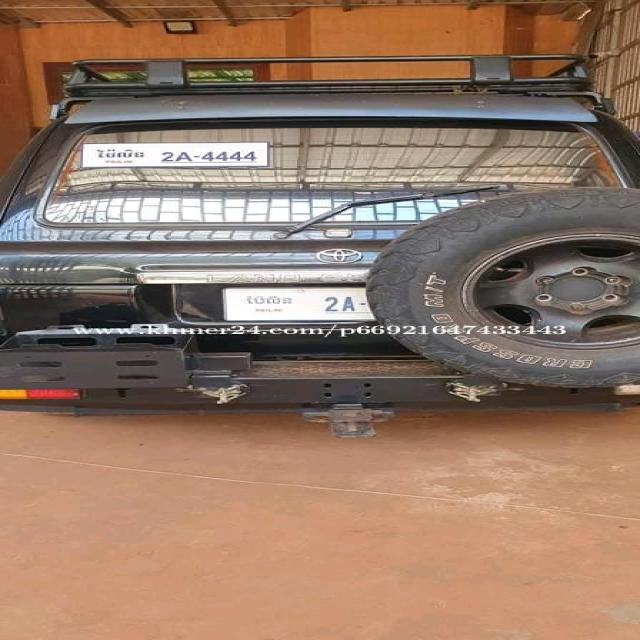Pailin: (243, 295, 293, 305)
